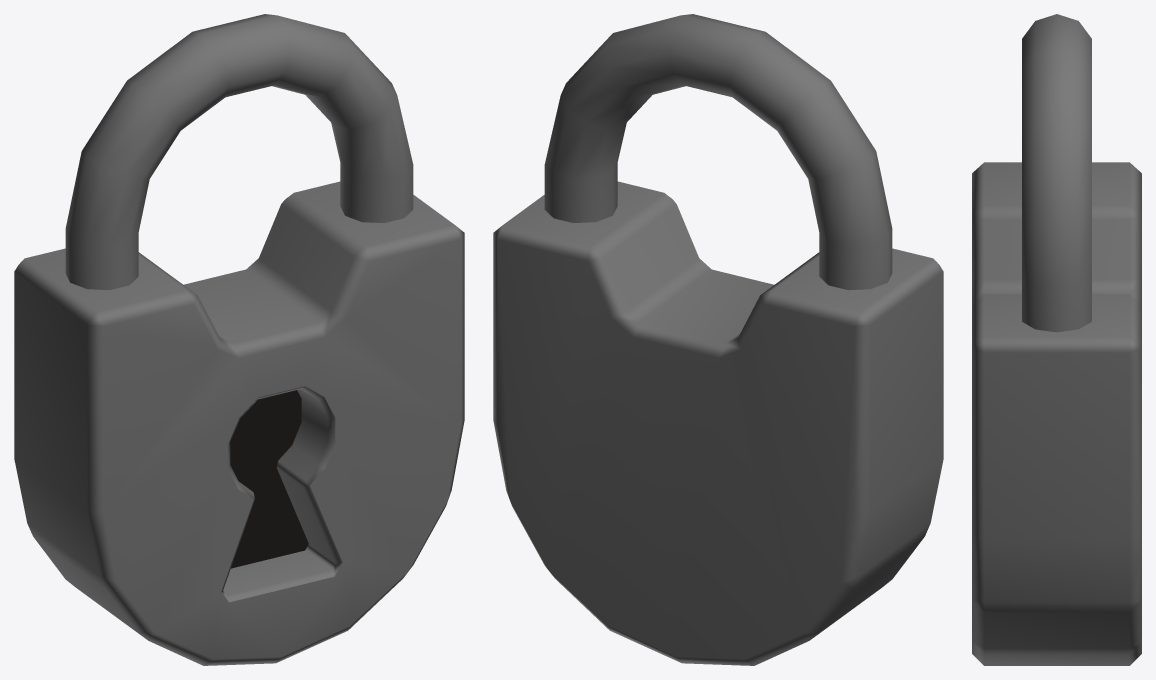
Rendered from castle.fbx.
3 renders of one model, left to right at view 1: azimuth 30°, elevation 25°; view 2: azimuth 150°, elevation 25°; view 3: azimuth 270°, elevation 25°, orthographic.
Visible parts, largest first — view 1: pCube83; view 2: pCube83; view 3: pCube83.
Part boxes in pixels (bbox=[...]): pCube83: bbox=[14, 14, 464, 665]; pCube83: bbox=[493, 14, 943, 665]; pCube83: bbox=[972, 14, 1141, 665].
Bounding box in the file's own units: 0.2362 × 0.3658 × 0.0918.
1 material, 1 textured.
